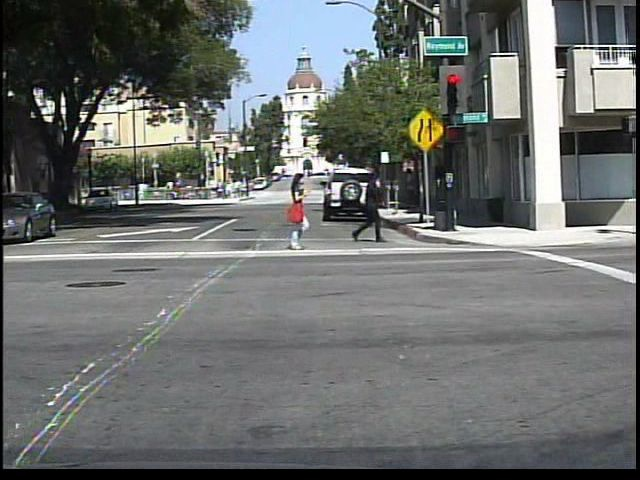person: (348, 167, 391, 249), (275, 167, 316, 251), (294, 181, 309, 202)
